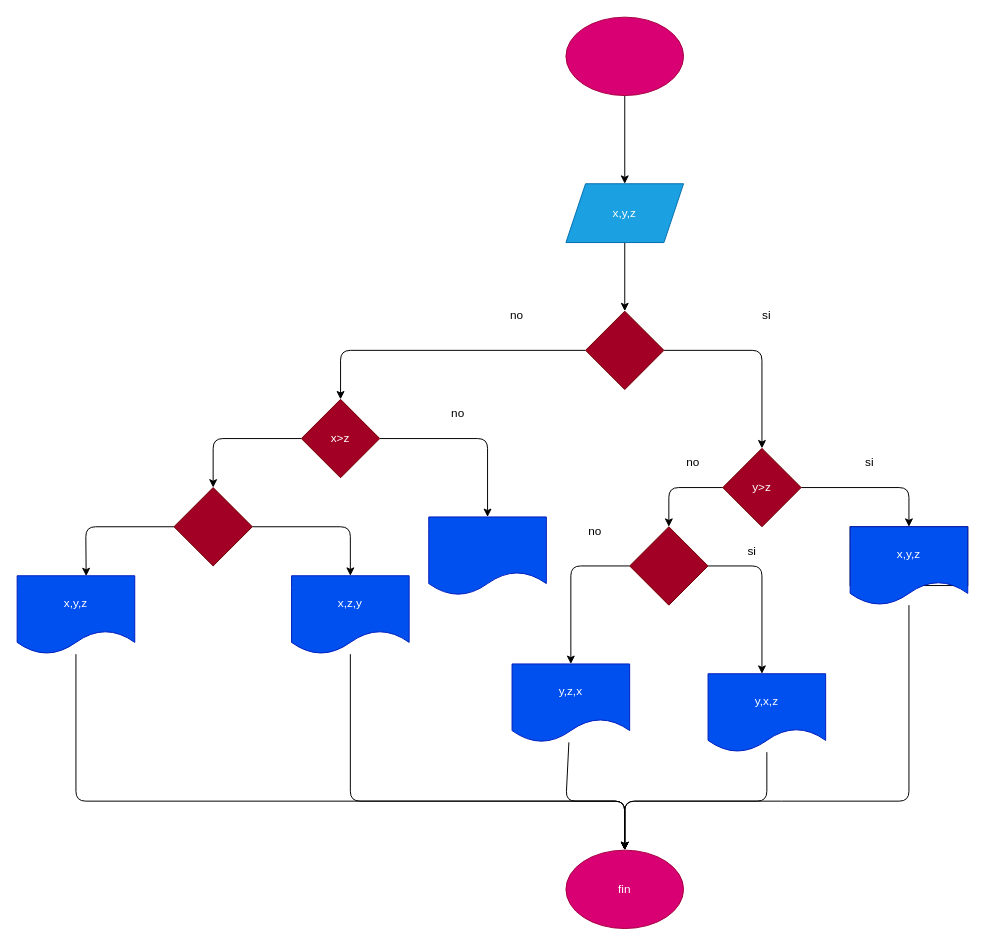
Image size: 985x946. Some labels were removed from this diagram. Here are the shapes that lost their labels. From the top down, the centre of each, then its label:
At point 624,56: "inicio".
At point 624,350: "x>y".
At point 212,526: "z>y".
At point 487,555: "z,x,y".
At point 668,565: "z>x".
